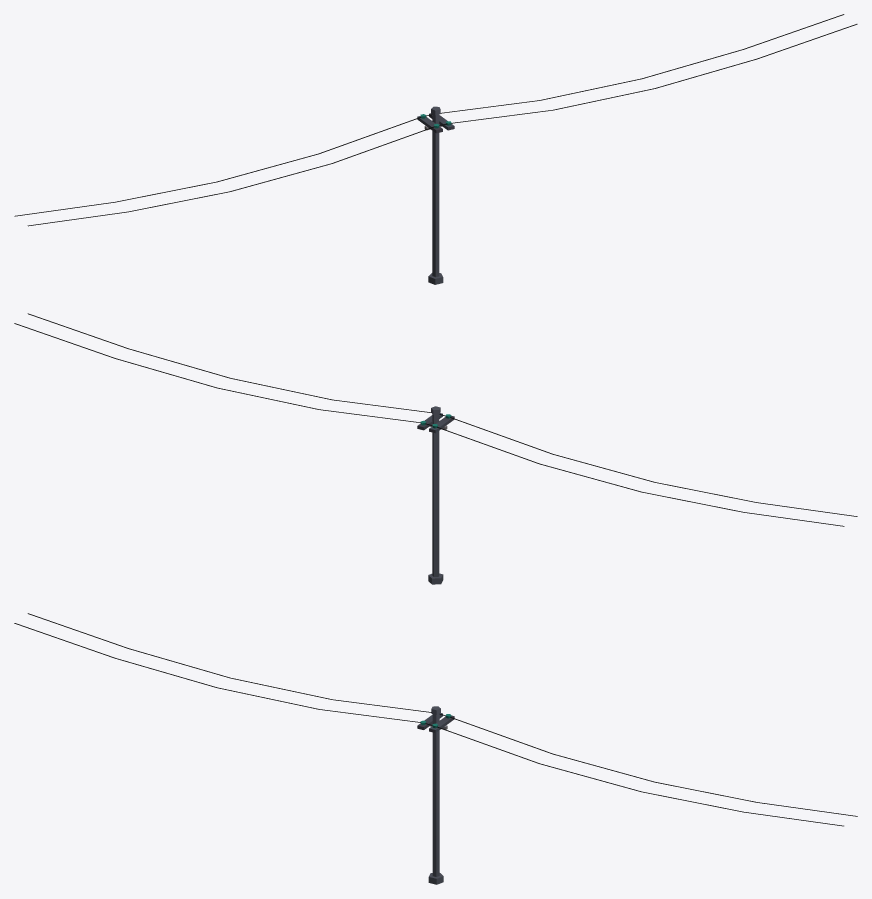
Rendered from SM_Electric_Pole_3.FBX.
The picture shows the model from 3 angles, top to bottom: view 1: azimuth 30°, elevation 25°; view 2: azimuth 150°, elevation 25°; view 3: azimuth 330°, elevation 25°; orthographic projection.
Parts seen in each view (by area): view 1: SM_Electric_Pole_3; view 2: SM_Electric_Pole_3; view 3: SM_Electric_Pole_3.
Part boxes in pixels (box(x1,y1,x2,y2)): SM_Electric_Pole_3: box(14, 14, 857, 284); SM_Electric_Pole_3: box(14, 313, 857, 584); SM_Electric_Pole_3: box(14, 613, 857, 884).
Size of what is drawn, in the model's own units: 5081 by 200 by 1014.
